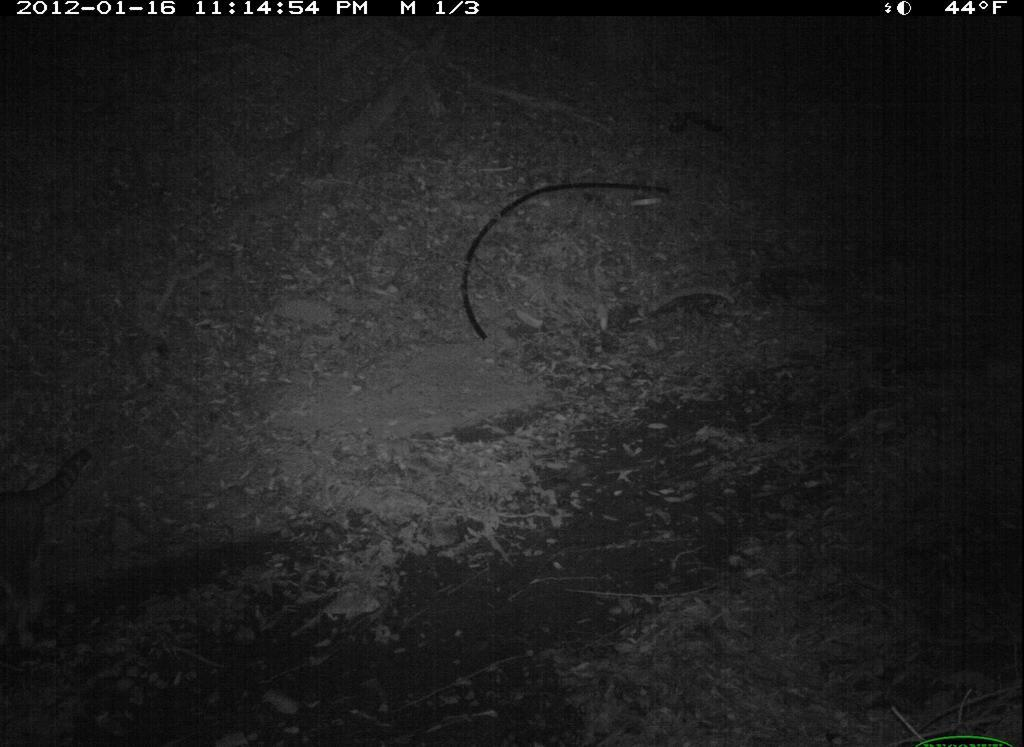cat: (1, 431, 117, 663)
